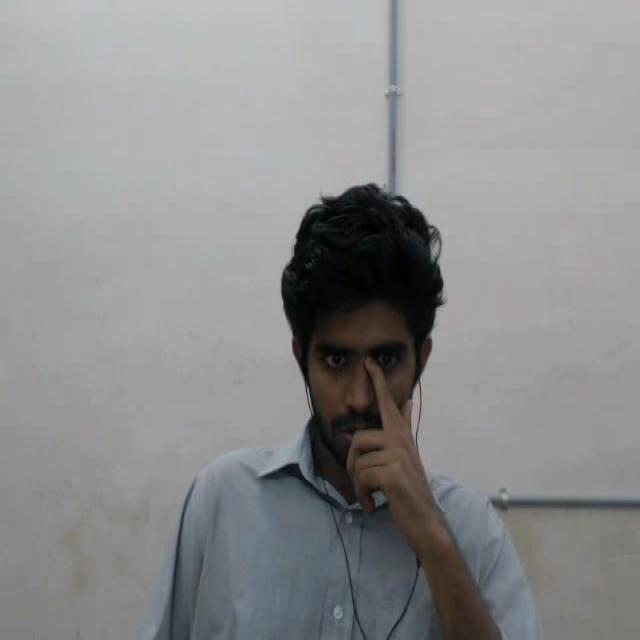Bored: (261, 167, 480, 520)
